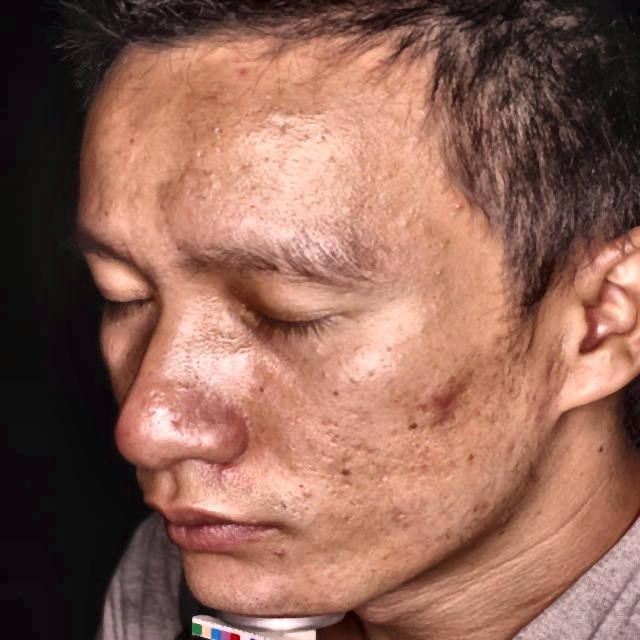comedone: (423, 380, 462, 412), (235, 59, 262, 85)
